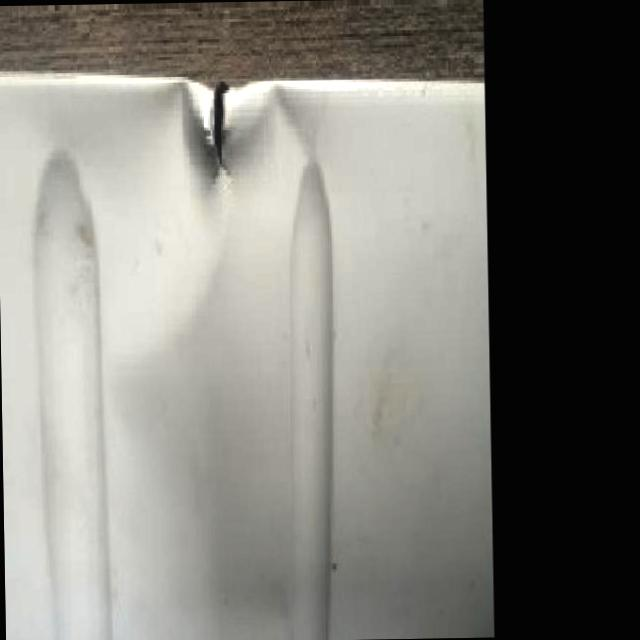crack: (183, 72, 240, 184)
